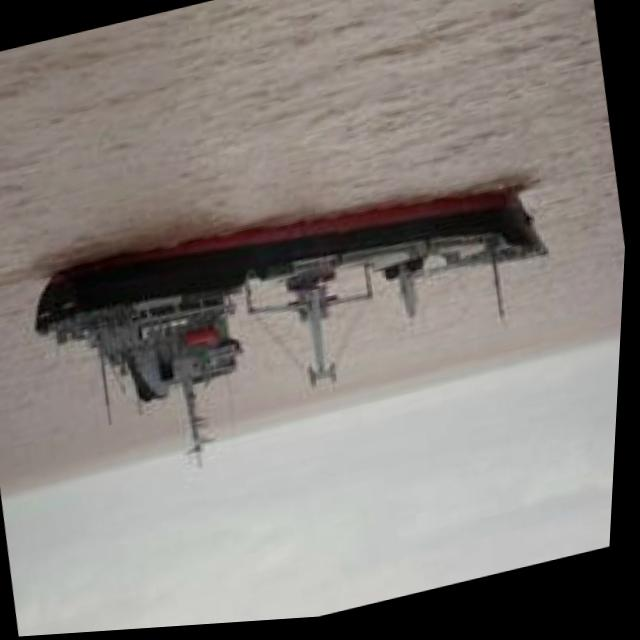ship2: (36, 192, 554, 472)
